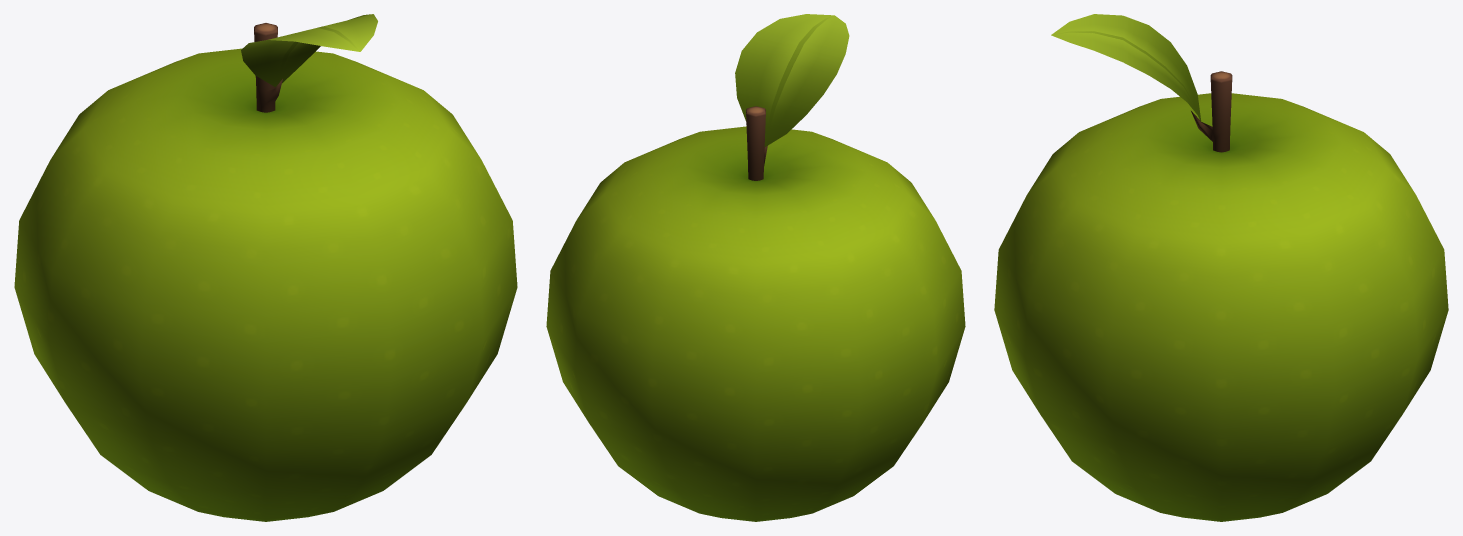
The model's file is Apple_G.fbx.
3 renders of one model, left to right at view 1: azimuth 30°, elevation 25°; view 2: azimuth 150°, elevation 25°; view 3: azimuth 270°, elevation 25°, orthographic. The views are drawn at different scales.
Parts seen in each view (by area): view 1: Apple_G_Whole; view 2: Apple_G_Whole; view 3: Apple_G_Whole.
Part boxes in pixels (box(x1,y1,x2,y2)): Apple_G_Whole: box(14, 14, 517, 521); Apple_G_Whole: box(546, 14, 965, 521); Apple_G_Whole: box(994, 14, 1448, 521).
Size of the model in its own units: 1.66 by 1.88 by 1.66.
